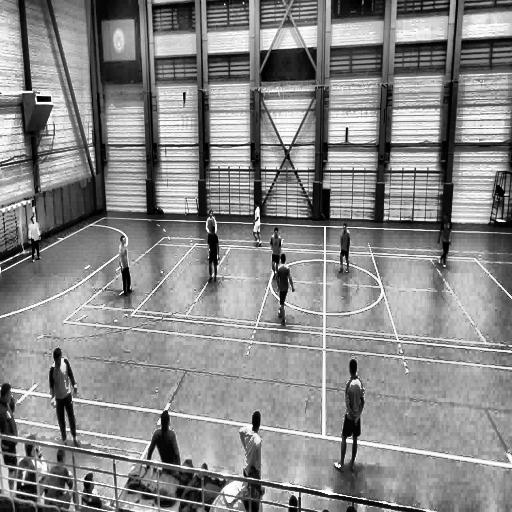ball: (278, 309, 281, 318)
player: (333, 358, 364, 473), (50, 348, 79, 444), (277, 251, 295, 326), (119, 233, 133, 297), (436, 214, 452, 268), (206, 226, 220, 282), (28, 216, 43, 264), (270, 226, 282, 282), (338, 223, 351, 274), (206, 210, 218, 261), (252, 200, 261, 246)
